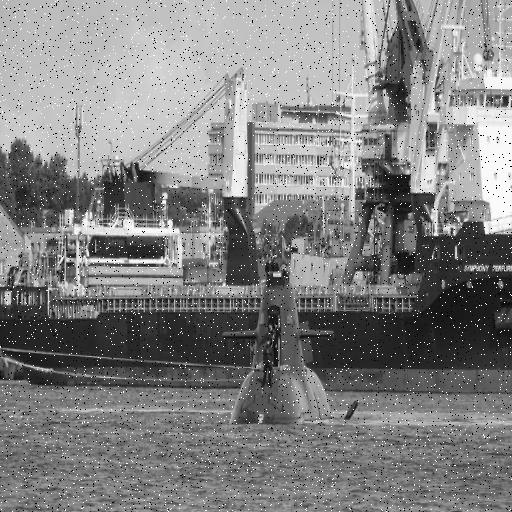submarine: (215, 251, 364, 423)
